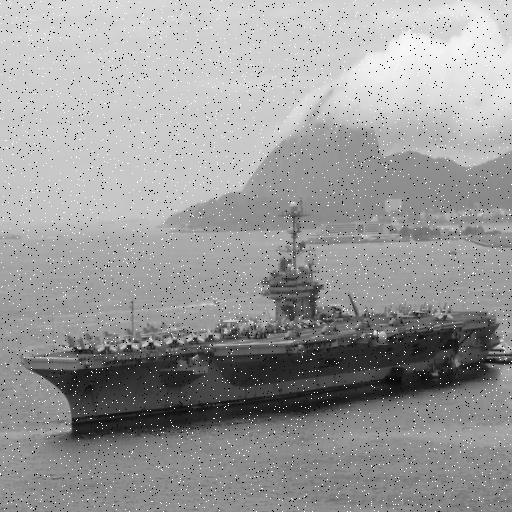Portanaves: (12, 179, 505, 441)
